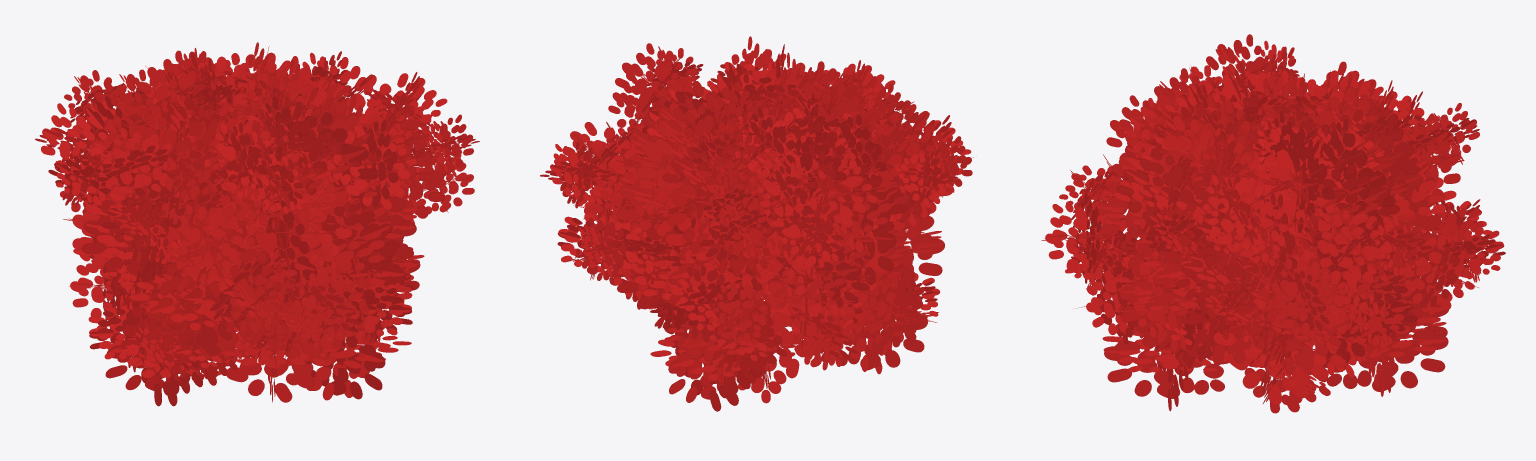
Rendered from Bush_Common.glb.
The picture shows the model from 3 angles, left to right: view 1: azimuth 30°, elevation 25°; view 2: azimuth 150°, elevation 25°; view 3: azimuth 270°, elevation 25°; orthographic projection. The views are drawn at different scales.
Bounding box in the file's own units: 1.91 × 1.58 × 1.97.
Materials: 1 (1 with a texture image).
